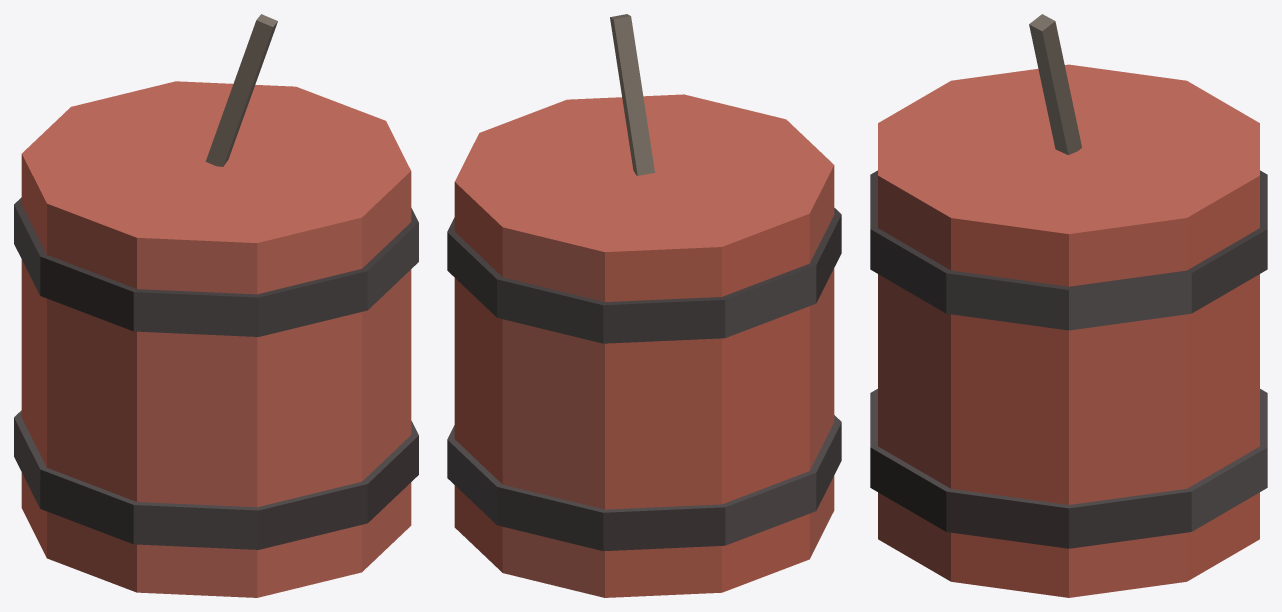
Rendered from explosive.glb.
3 views of the same model, side by side, from view 1: azimuth 30°, elevation 25°; view 2: azimuth 150°, elevation 25°; view 3: azimuth 270°, elevation 25° (orthographic). The views are drawn at different scales.
Parts seen in each view (by area): view 1: explosive2; view 2: explosive2; view 3: explosive2.
Part boxes in pixels (left/top/right/bottom): explosive2: left=14, top=14, right=418, bottom=597; explosive2: left=447, top=14, right=841, bottom=597; explosive2: left=870, top=14, right=1267, bottom=597.
Size of the model in its own units: 0.468 by 0.634 by 0.4451.
